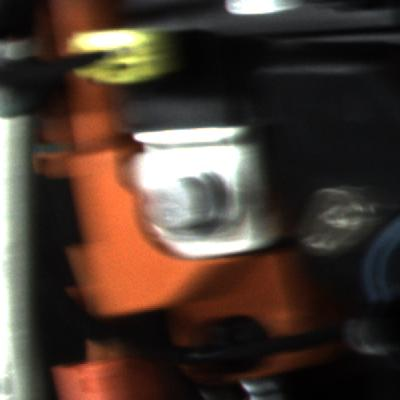nut_b: (140, 161, 243, 251)
